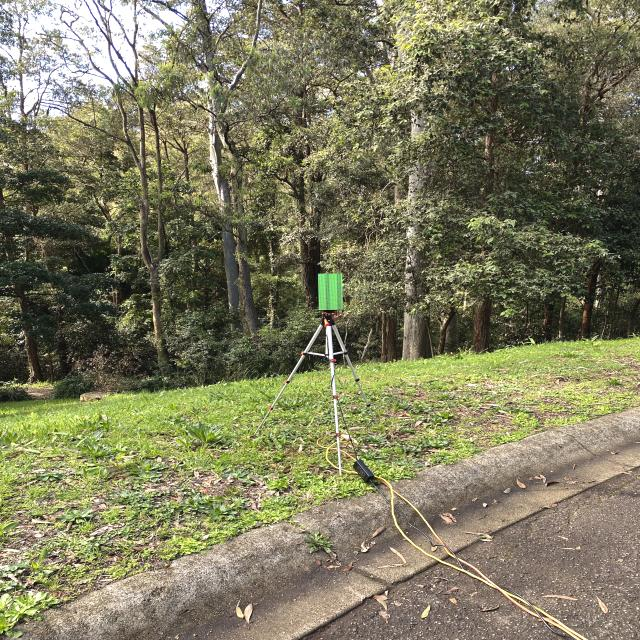matrix: (314, 269, 352, 318)
